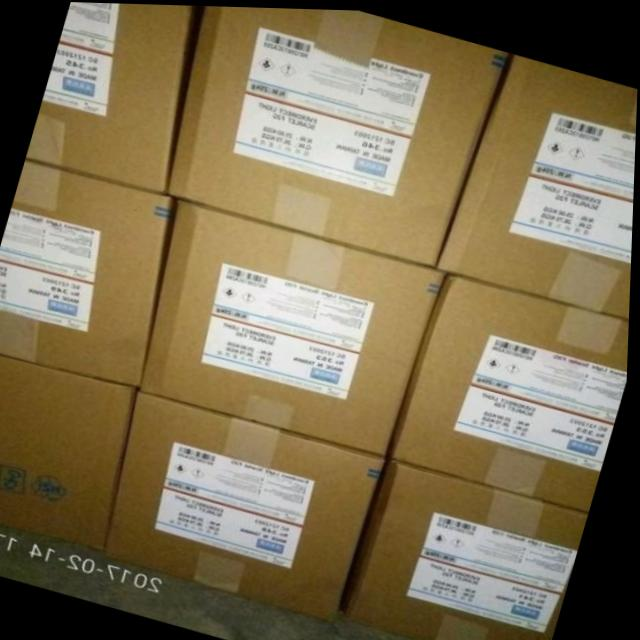box: (170, 5, 509, 267), (140, 196, 449, 452), (107, 390, 388, 619), (389, 270, 631, 506), (437, 50, 638, 317), (345, 457, 592, 640), (0, 160, 171, 390), (26, 2, 205, 190), (0, 356, 140, 550)
